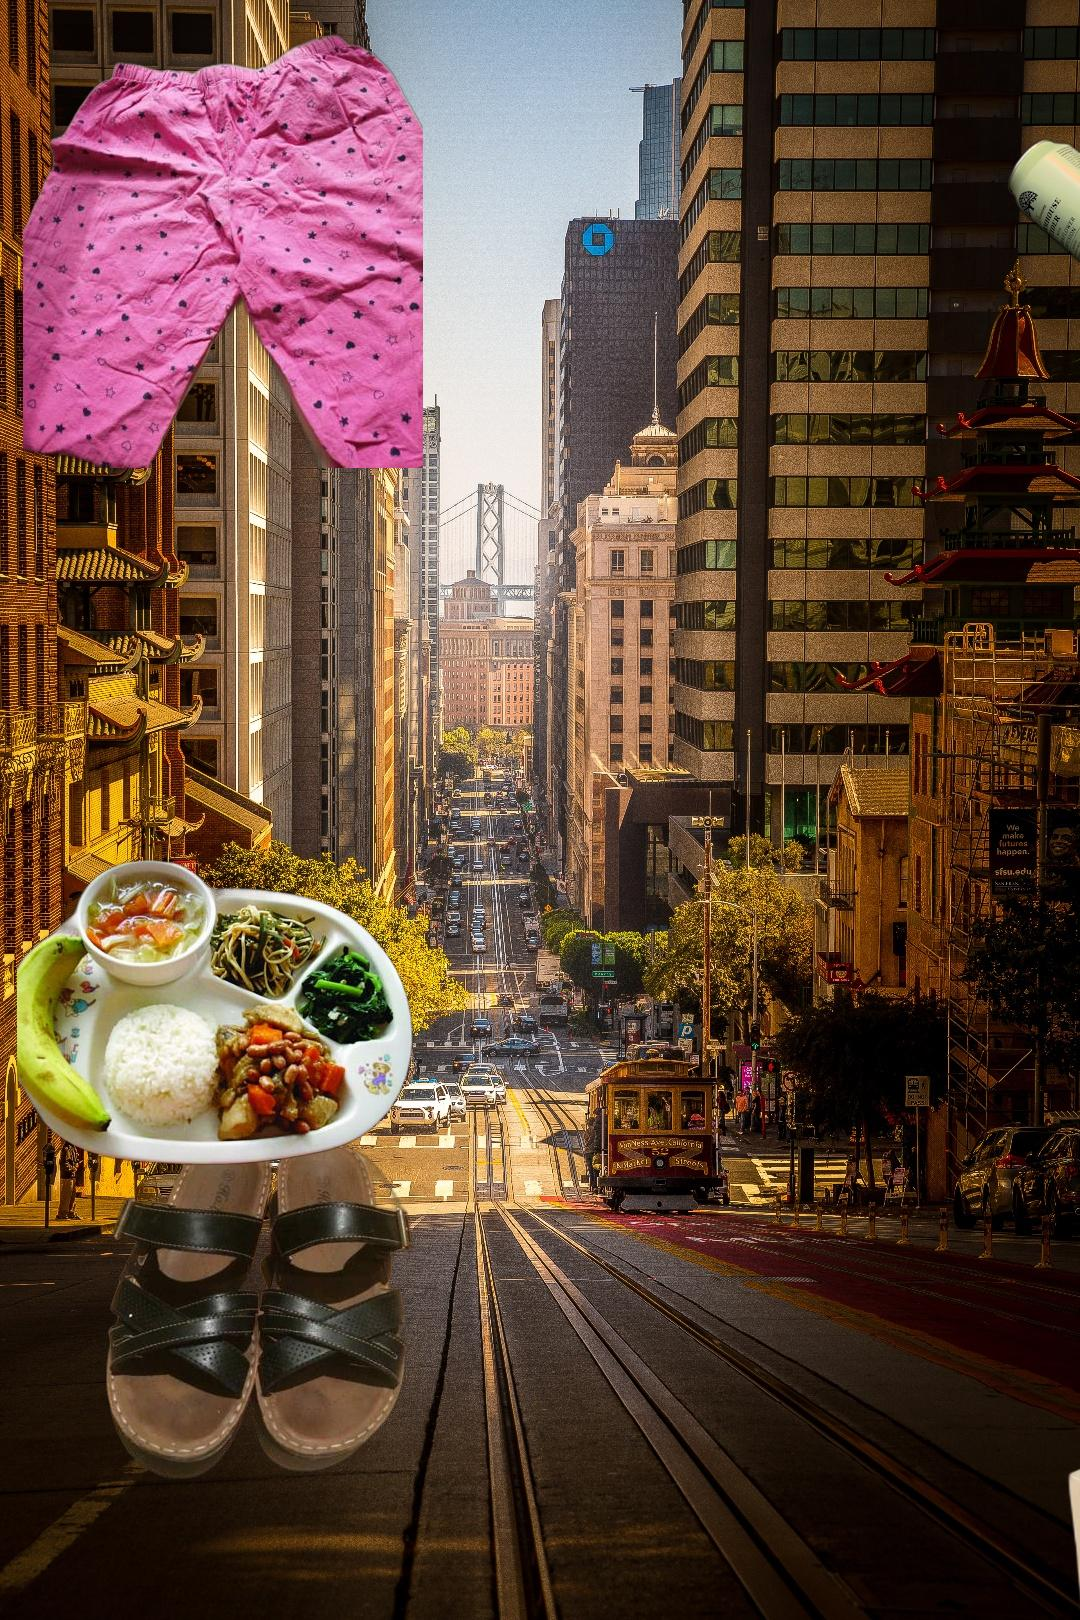biological: (17, 859, 416, 1167)
clothes: (23, 28, 423, 468)
metal-cans: (1003, 133, 1080, 290)
shoes: (102, 1135, 421, 1484)
trashbox-cardboard: (1011, 1524, 1080, 1620), (1063, 1422, 1080, 1620)
